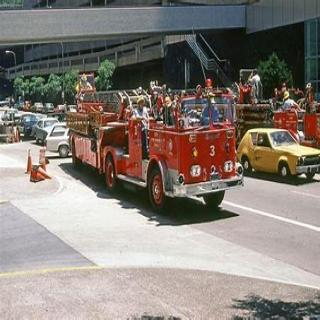Fire_truck: (65, 70, 245, 212)
